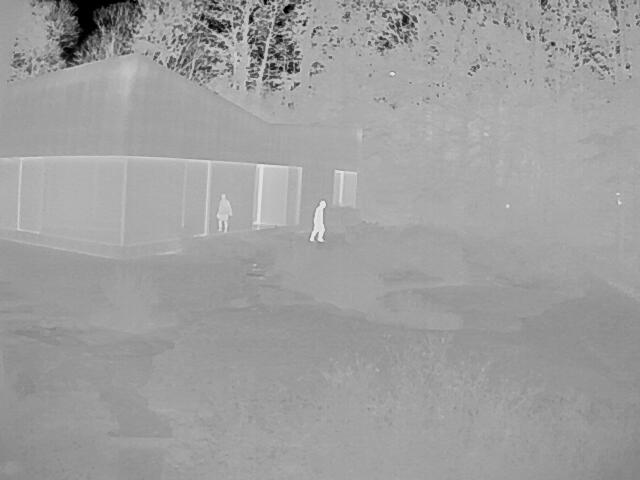person: (309, 197, 325, 243), (215, 193, 231, 234)
